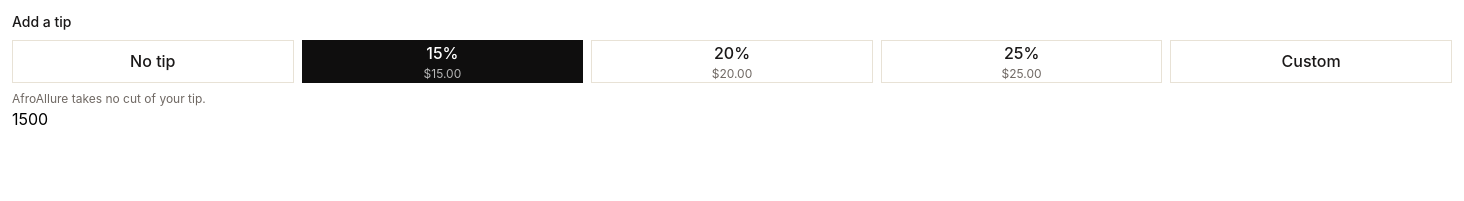
Scenario: TipPicker › treats an empty custom field as no tip
Click the button "Custom".
click(1311, 61)  # box [1170, 40, 1452, 83]
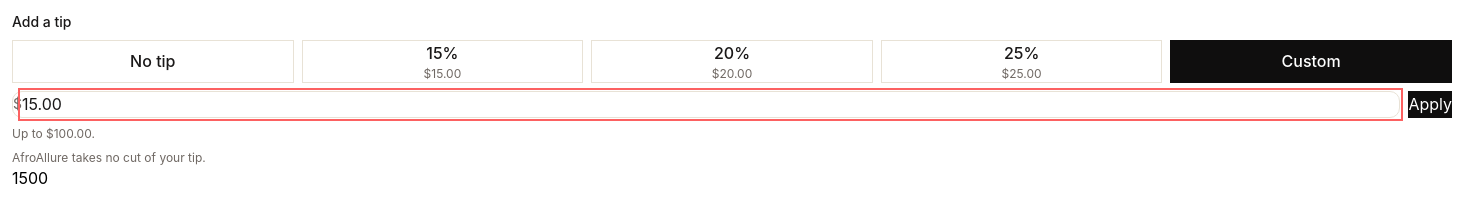
Clear the field named "Custom tip in dollars" at [711, 104], box [22, 92, 1399, 117]
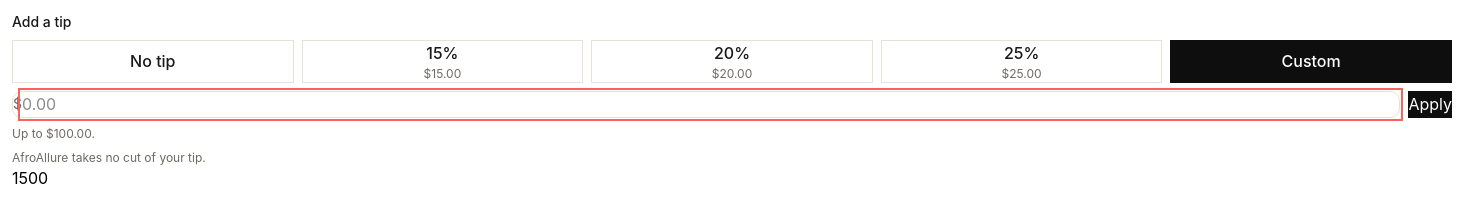
Click the button "Apply".
click(1430, 104)  # box [1408, 91, 1452, 118]
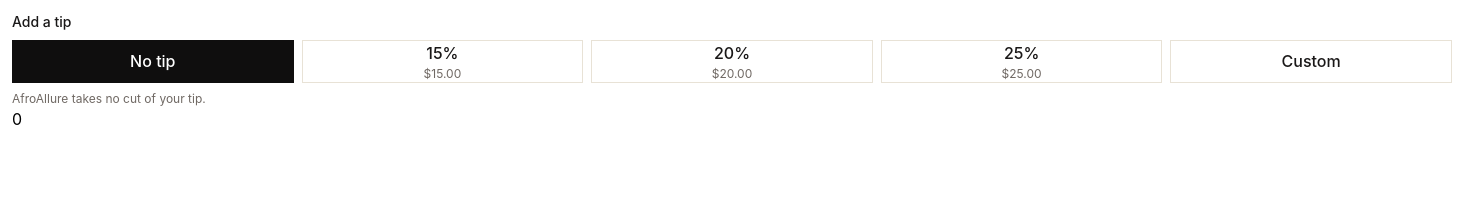
expect the text with test id "tip" reads "0": met, box [12, 109, 22, 129]
